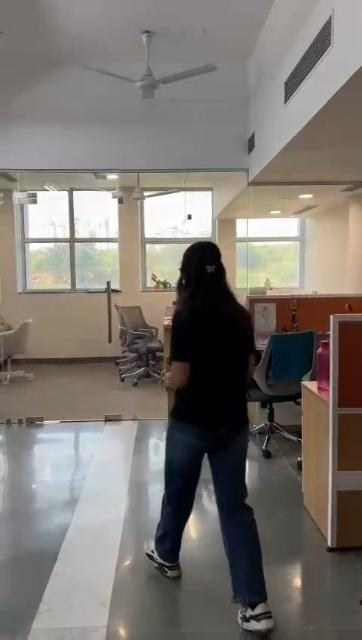floor: (0, 394, 144, 640), (282, 546, 356, 640)
moving-obj: (135, 255, 319, 629)
object: (257, 328, 319, 457), (116, 307, 162, 383), (0, 316, 34, 388)
wall: (34, 294, 114, 370), (313, 196, 357, 286), (215, 187, 239, 286), (120, 200, 140, 288)
